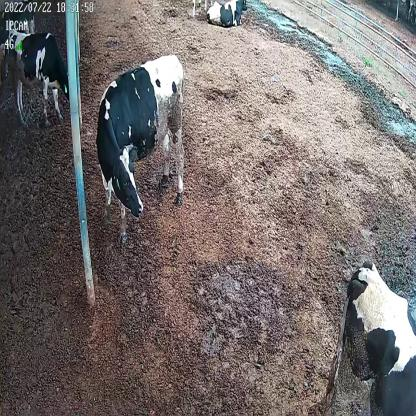cow: (98, 52, 186, 237), (8, 27, 70, 128), (204, 0, 248, 27)
